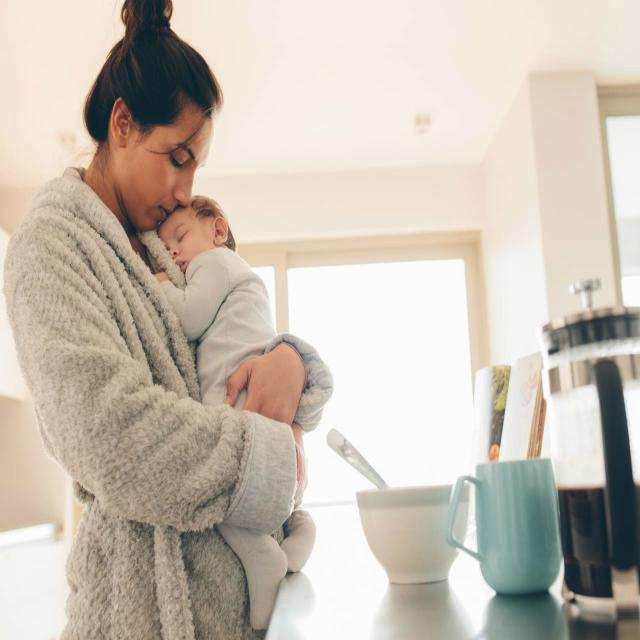adult: (1, 3, 333, 640)
child: (148, 190, 317, 630)
